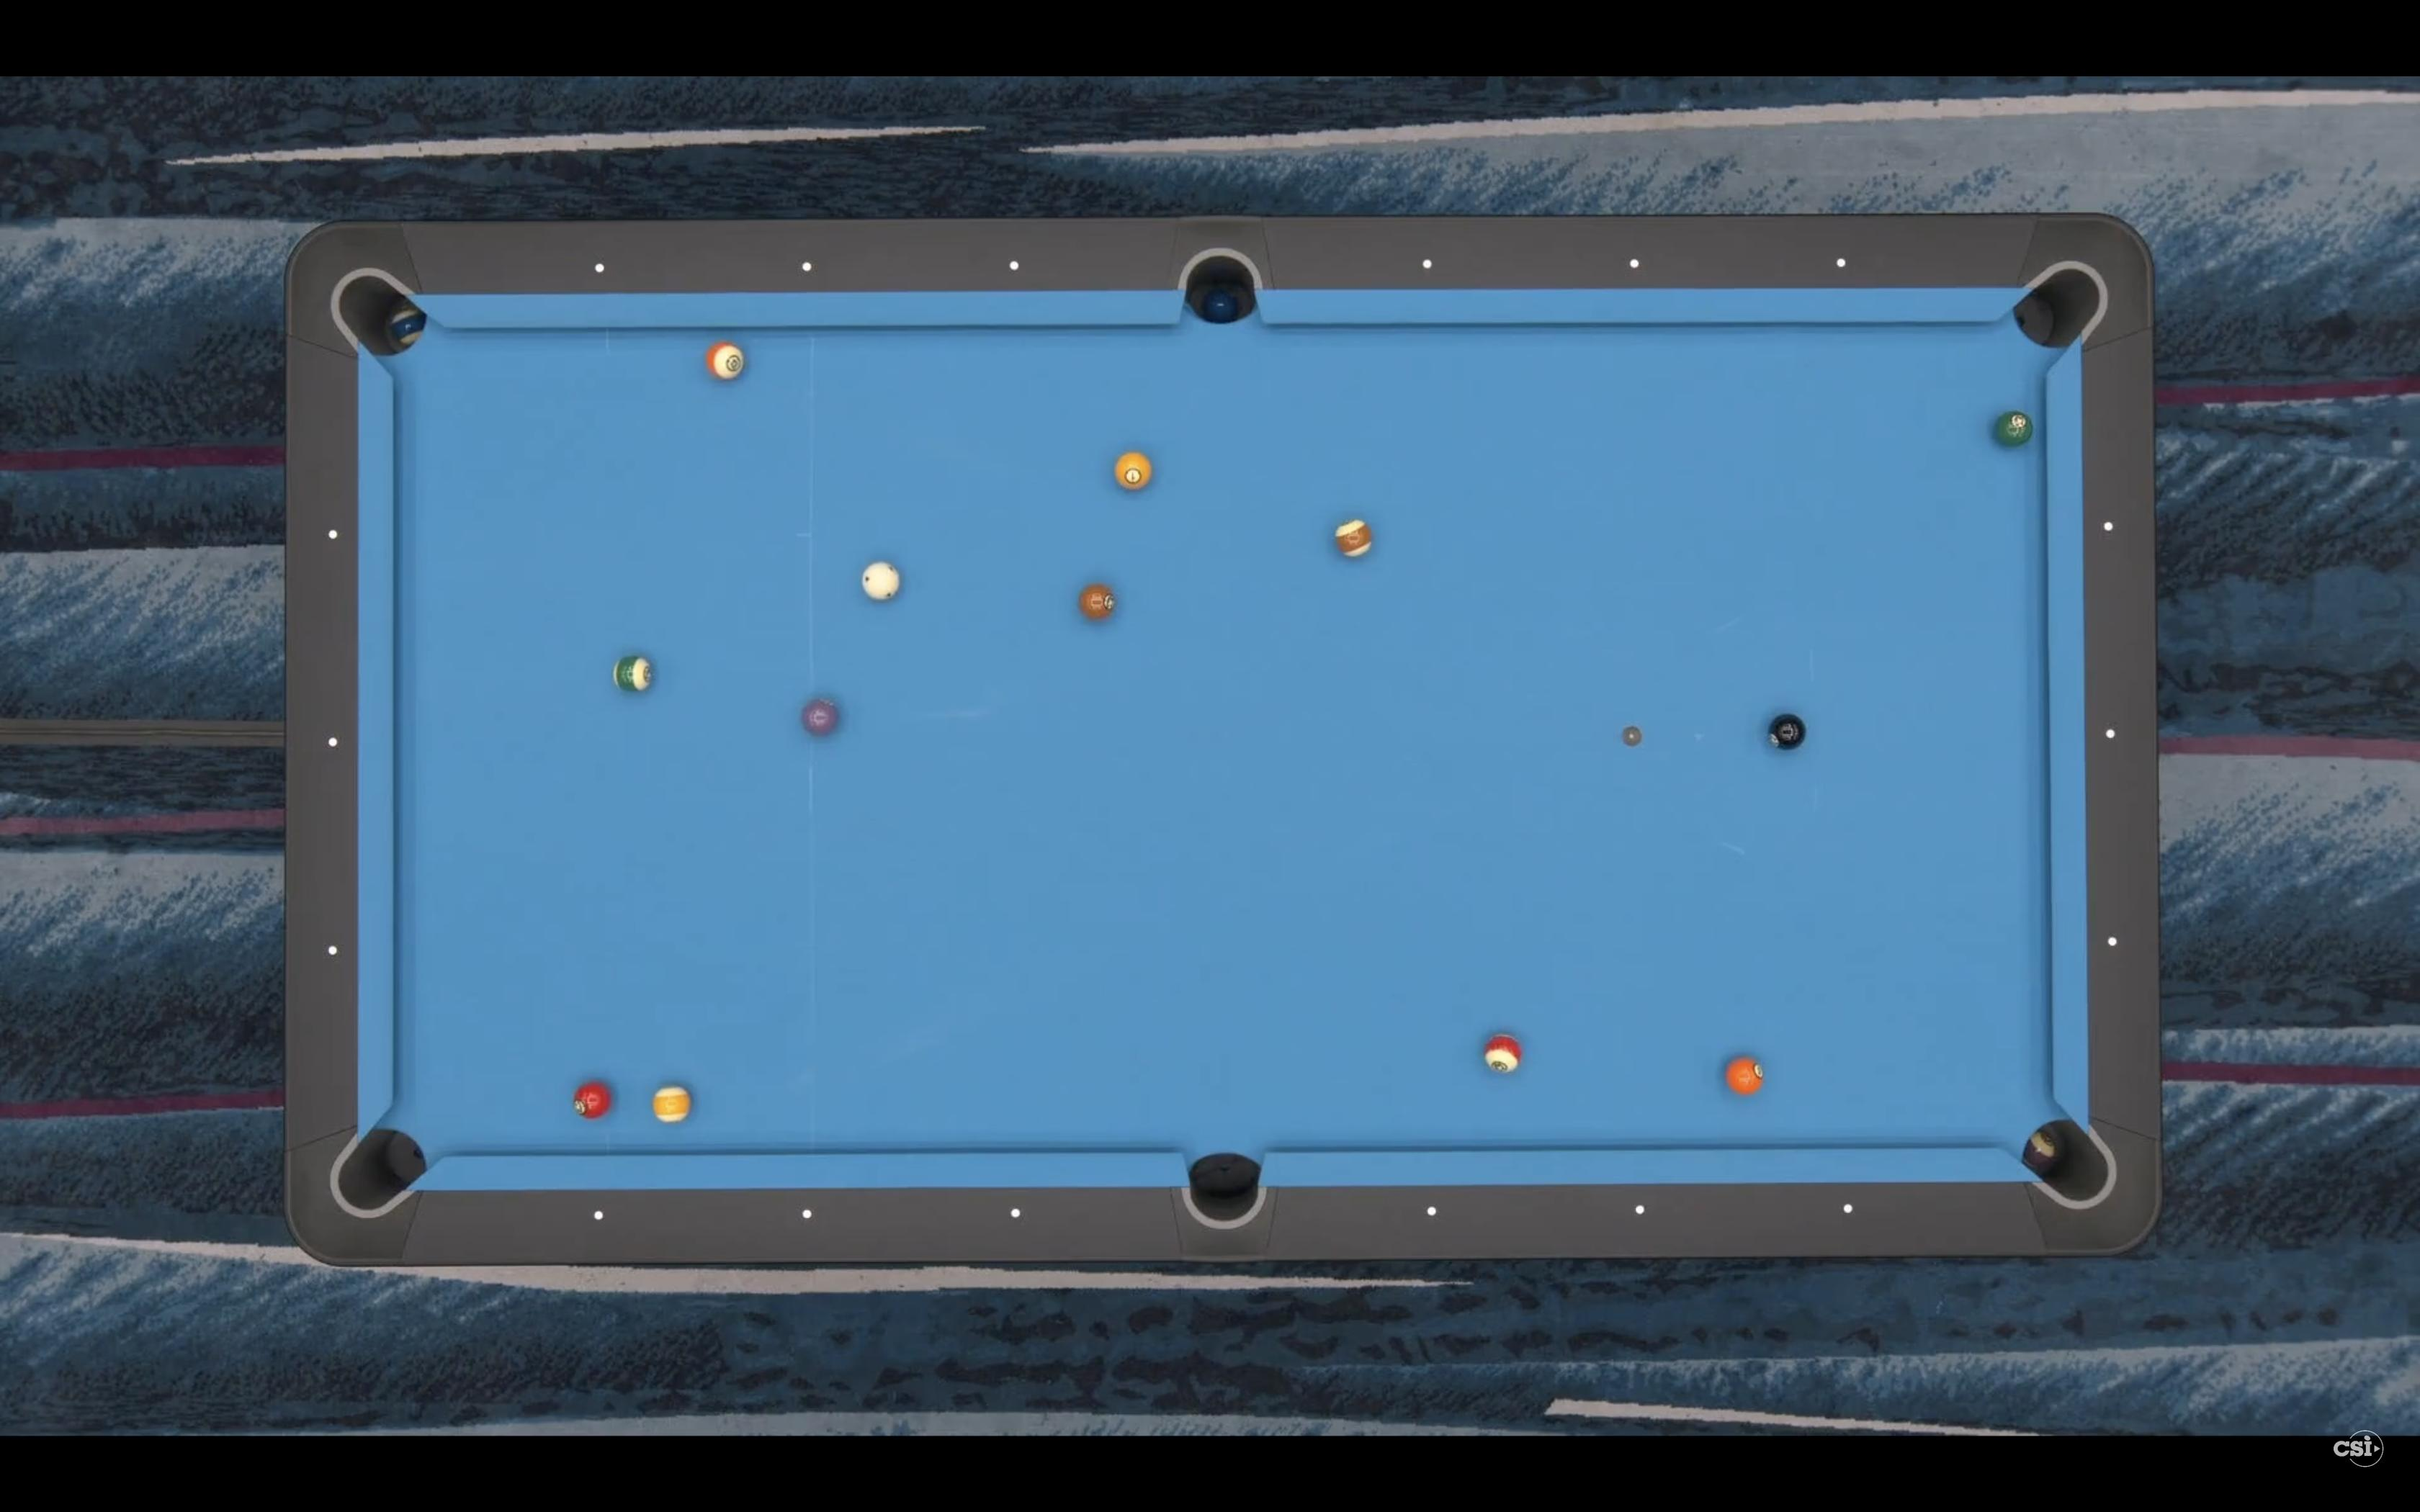Black: (1770, 714, 1805, 749)
Cue: (862, 563, 901, 599)
Dot: (1011, 1209, 1021, 1219), (801, 1209, 812, 1219), (594, 1211, 605, 1221), (328, 946, 338, 956), (594, 263, 605, 273), (1843, 1204, 1854, 1214), (329, 737, 338, 747), (803, 261, 812, 272), (1631, 258, 1639, 268), (2105, 521, 2113, 531), (2106, 728, 2115, 739), (1636, 1205, 1646, 1214), (1427, 1207, 1437, 1216), (329, 530, 338, 538), (1011, 261, 1019, 270), (1423, 260, 1432, 268), (1836, 258, 1845, 267), (2108, 937, 2117, 946)
Solid: (1115, 451, 1152, 491), (575, 1082, 612, 1120), (1727, 1057, 1763, 1094), (1995, 411, 2033, 446), (1080, 584, 1115, 620), (803, 699, 838, 735)
Striped: (706, 341, 744, 381), (1484, 1035, 1521, 1075), (613, 655, 653, 692), (653, 1087, 692, 1124), (1336, 519, 1371, 557)
